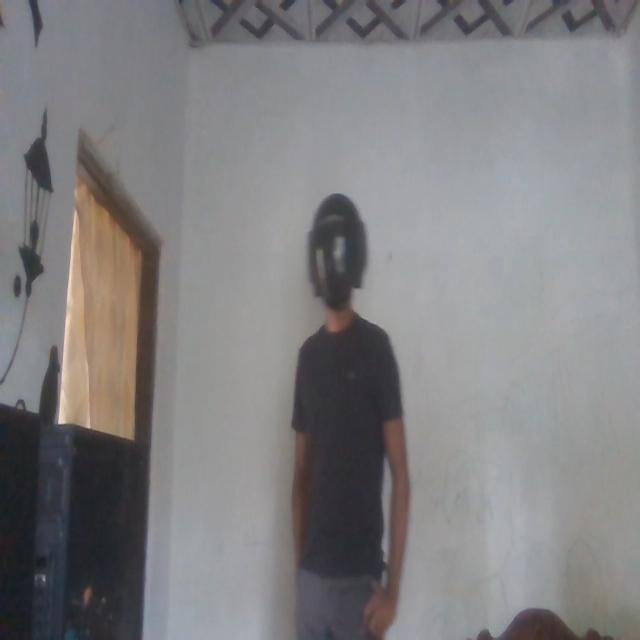Helmet_Wearer: (305, 180, 371, 321)
Person: (286, 182, 414, 640)
